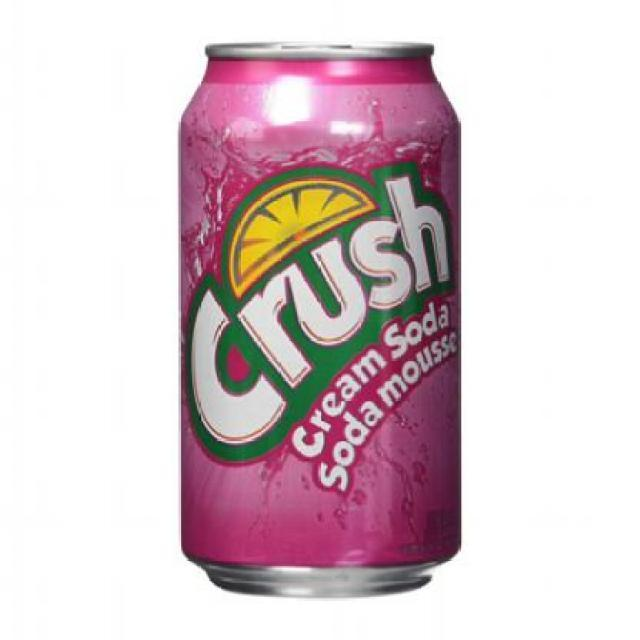metal-can: (163, 20, 520, 637)
